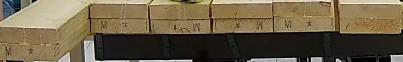Wood-Plank: (339, 0, 403, 19), (273, 0, 335, 17), (274, 16, 336, 33), (340, 18, 402, 34), (213, 18, 274, 33), (0, 28, 56, 44), (151, 4, 210, 19), (150, 20, 212, 34), (89, 19, 148, 33), (91, 3, 147, 17), (211, 4, 272, 16), (0, 46, 56, 59)
